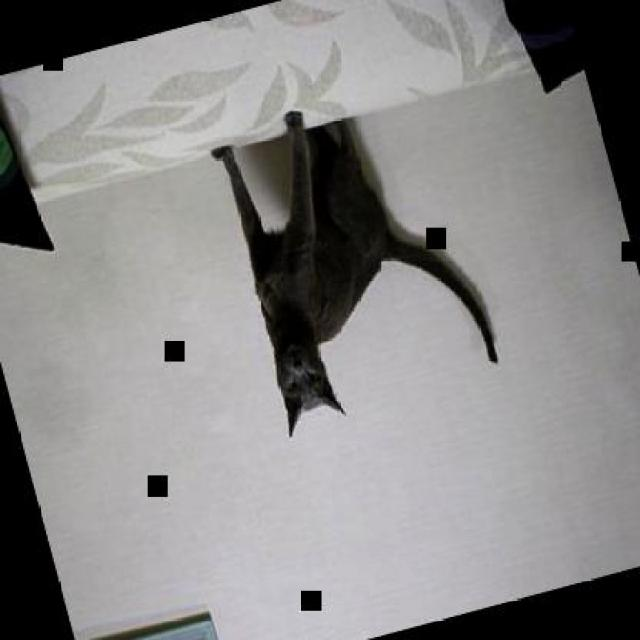cat: (208, 79, 503, 438)
